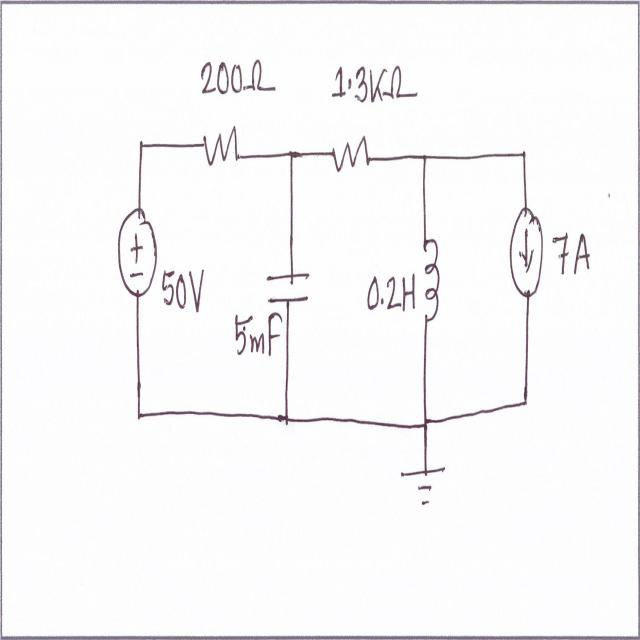capacitor: (265, 260, 315, 310)
current_source: (507, 202, 546, 301)
ground: (398, 460, 447, 518)
inductor: (420, 232, 443, 340)
resistor: (326, 134, 374, 190), (196, 124, 241, 172)
voltage_source: (116, 199, 161, 306)
